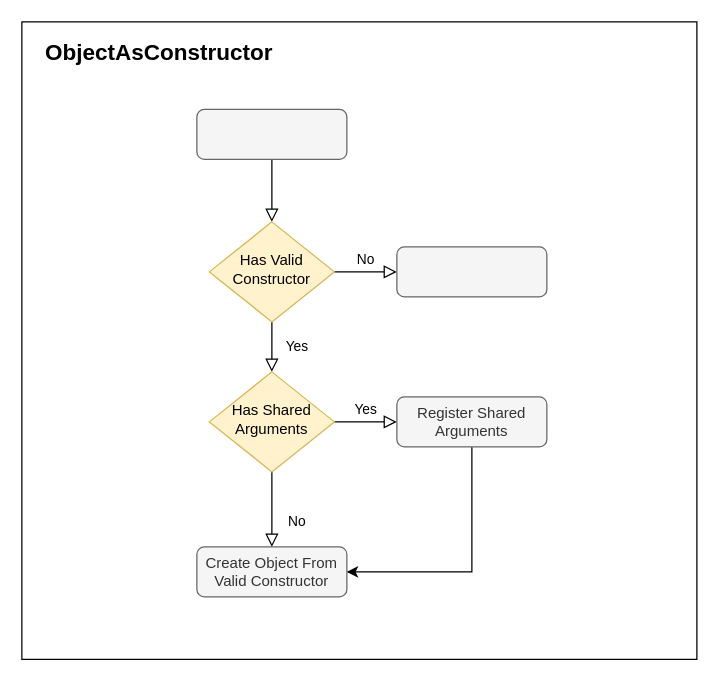
The diagram is 719 pixels wide and 681 high, and some of its shapes have lost their labels. The shapes that lost their labels are listed below. From the top down, each one's box as (x1, y1, x2, y2) in pixels, then its label:
(196, 108, 347, 159): Object
(396, 246, 547, 297): Build Invalid Object Report
